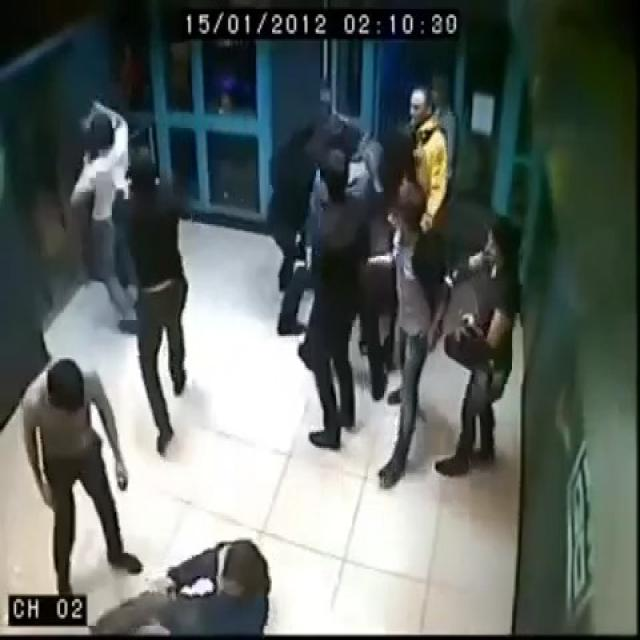fight: (65, 93, 195, 455)
